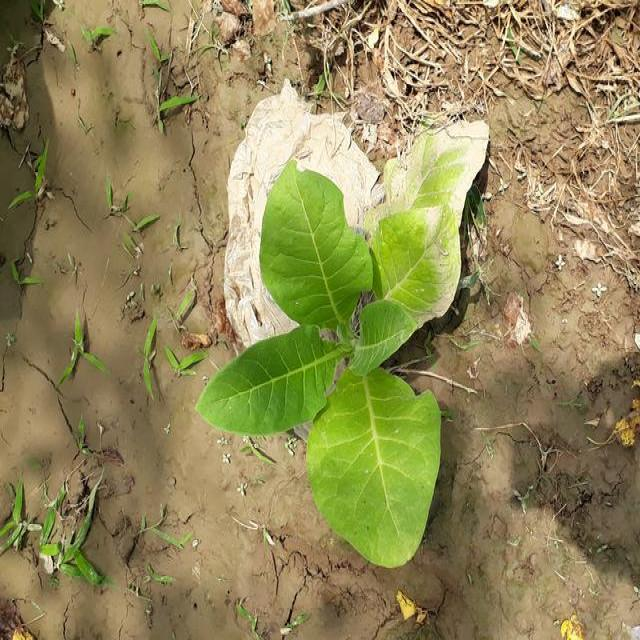crop: (216, 167, 474, 570)
